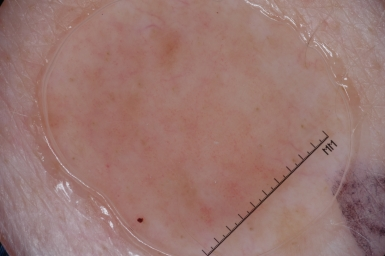seborrheic keratosis: (128, 74, 261, 204)
